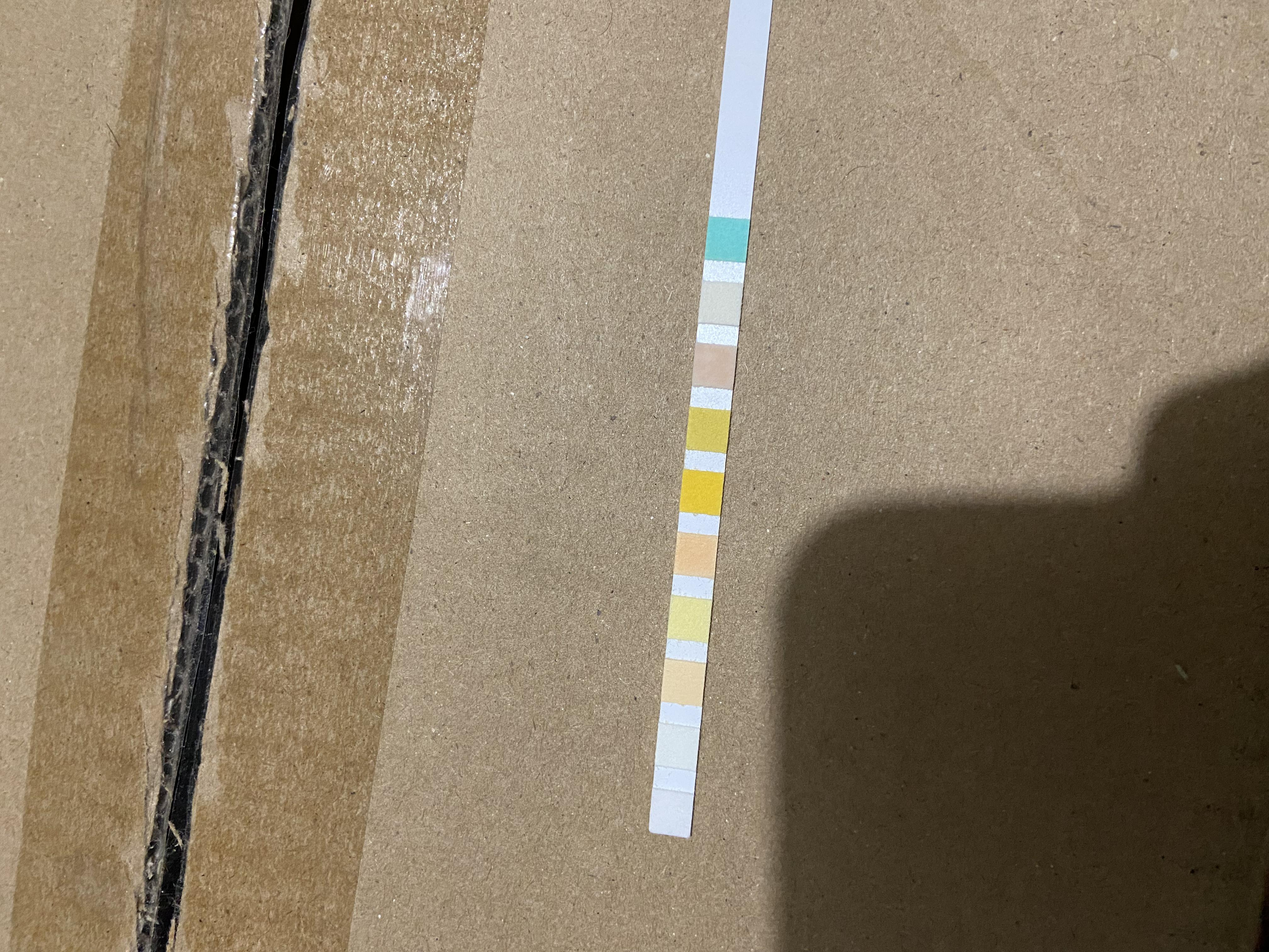Bilirubin: (704, 285, 739, 323)
Blood: (684, 475, 720, 511)
Glucose: (711, 220, 744, 259)
Ketone: (695, 347, 733, 385)
Leukocytes: (653, 794, 690, 831)
Nitrite: (658, 727, 695, 763)
Protein: (671, 602, 709, 637)
SpGravity: (691, 411, 727, 446)
Urobilinogen: (666, 665, 702, 701)
pH: (678, 537, 715, 573)
strip: (648, 0, 772, 841)
